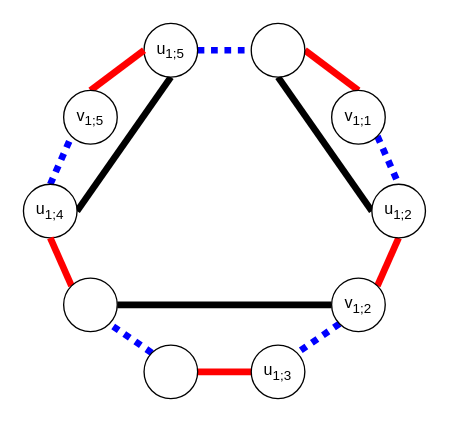
The diagram is 449 pixels wide and 422 high, and some of its shapes have lost their labels. Here are the shapes that lost their labels. From the top down, the centre of each, then its label:
the point at 277,49: u 1;1
the point at 89,304: v 1;4
the point at 170,371: v 1;3
